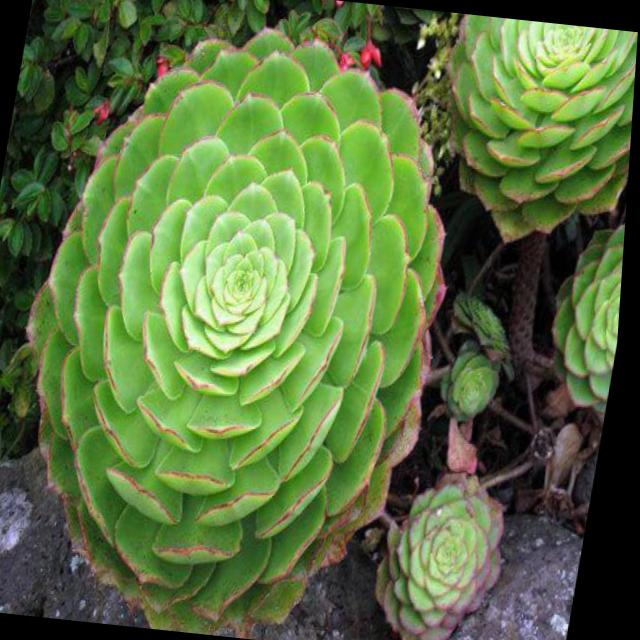Flower: (0, 3, 491, 636), (421, 19, 639, 248), (371, 458, 517, 640), (530, 191, 630, 428)
